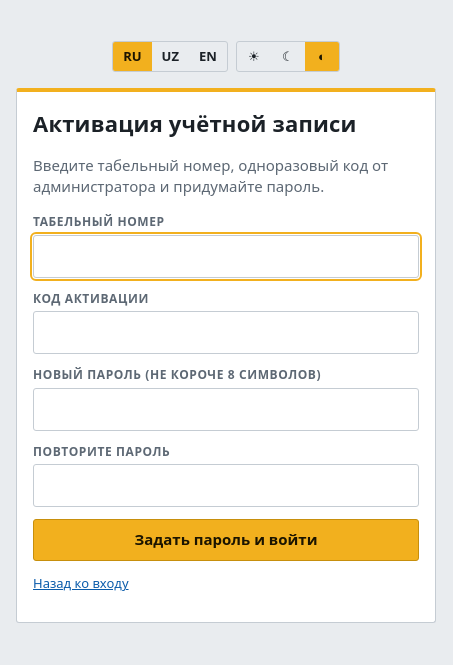
Test: активация › несовпадающие пароли не отправляются
Type "9" into the field labelled "Табельный номер" at (226, 256), box [33,234,419,278]
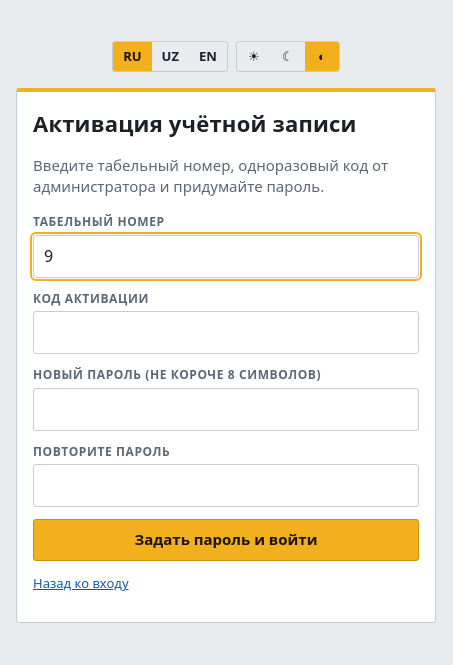
Type "ABCD-2345" into the field labelled "Код активации" at (226, 333), box [33,311,419,354]
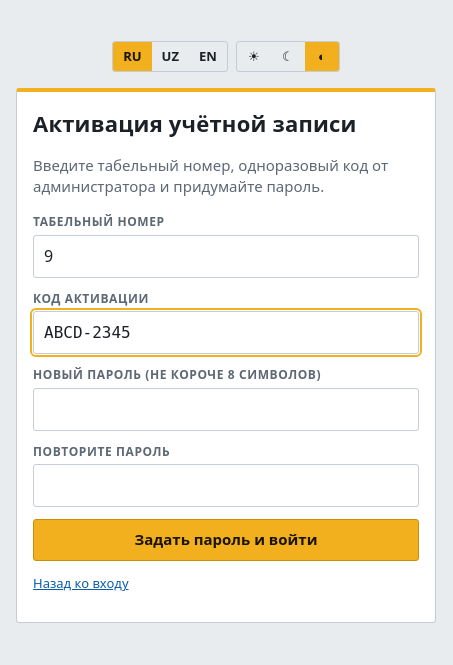
Type "password1" into the password field labelled "Новый пароль (не короче 8 символов)" at (226, 409), box [33,388,419,431]
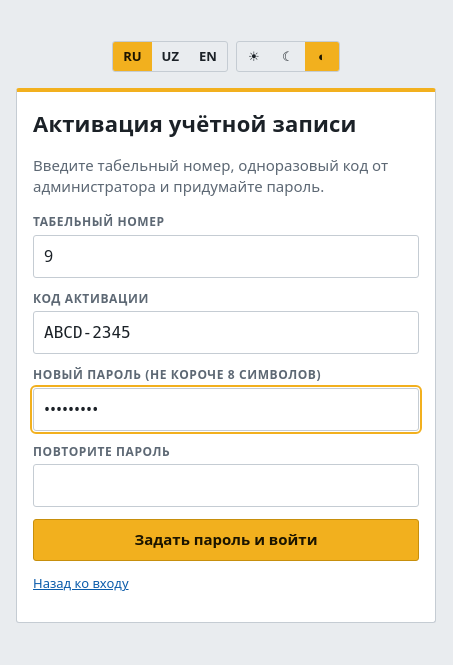
Type "password2" into the password field labelled "Повторите пароль" at (226, 486), box [33,464,419,508]
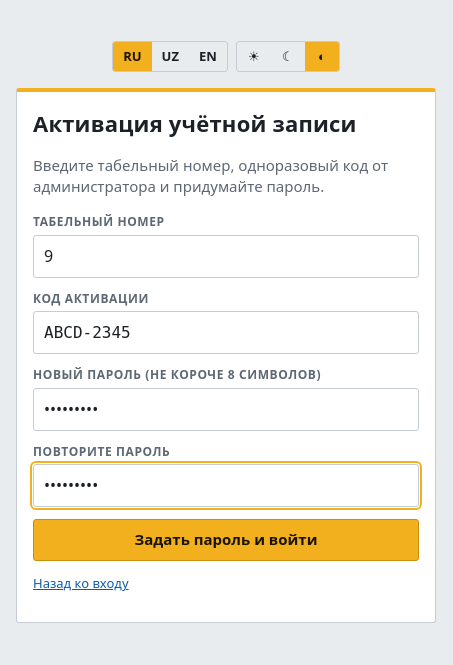
Click the button "Задать пароль и войти" at (226, 540), box [33,520,419,561]
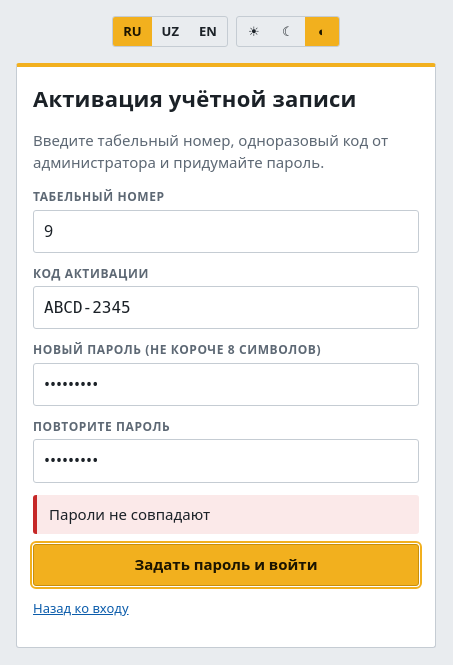
Expected: the message reads "Пароли не совпадают", [49,504,210,524]
